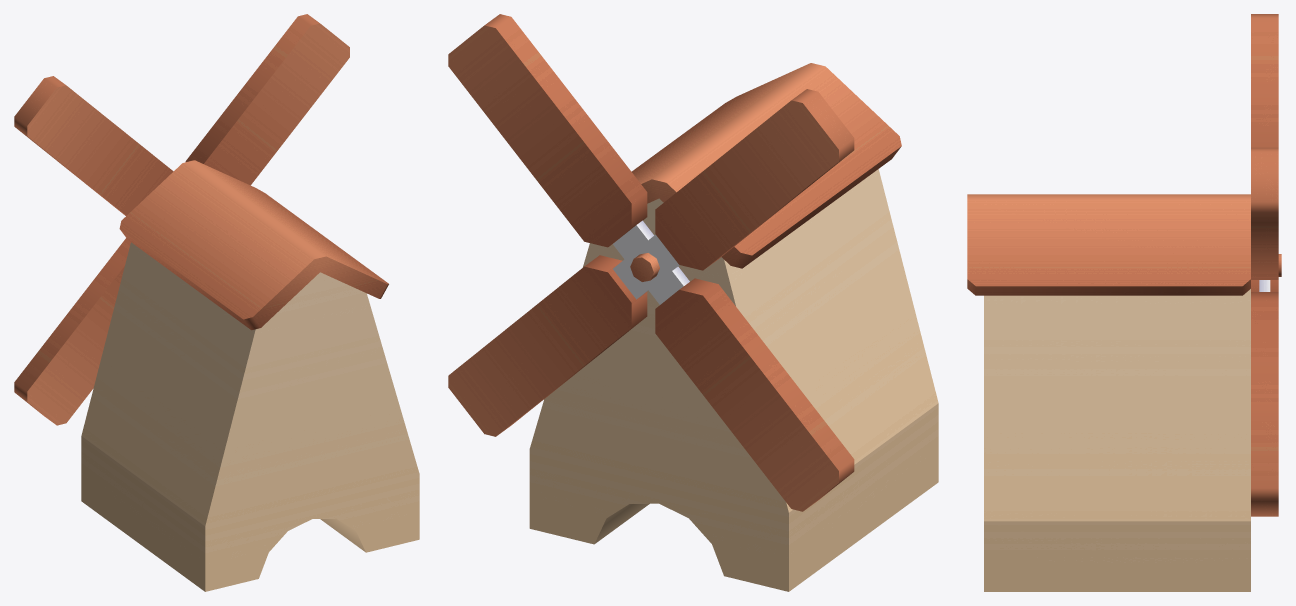
File: structure_windmill.glb
3 renders of one model, left to right at view 1: azimuth 30°, elevation 25°; view 2: azimuth 150°, elevation 25°; view 3: azimuth 270°, elevation 25°, orthographic. The views are drawn at different scales.
Visible parts, largest first — view 1: structure-windmill, blades; view 2: structure-windmill, blades; view 3: structure-windmill, blades.
Boxes of the visible parts, x1,y1,x2,y2 form: structure-windmill: (81,160,419,591); blades: (14,14,349,425); structure-windmill: (529,63,938,591); blades: (448,14,854,511); structure-windmill: (967,194,1250,591); blades: (1251,14,1281,516).
Size of the model in its own units: 1.2 by 1.5 by 0.9416.
Materials: 1 (1 with a texture image).
